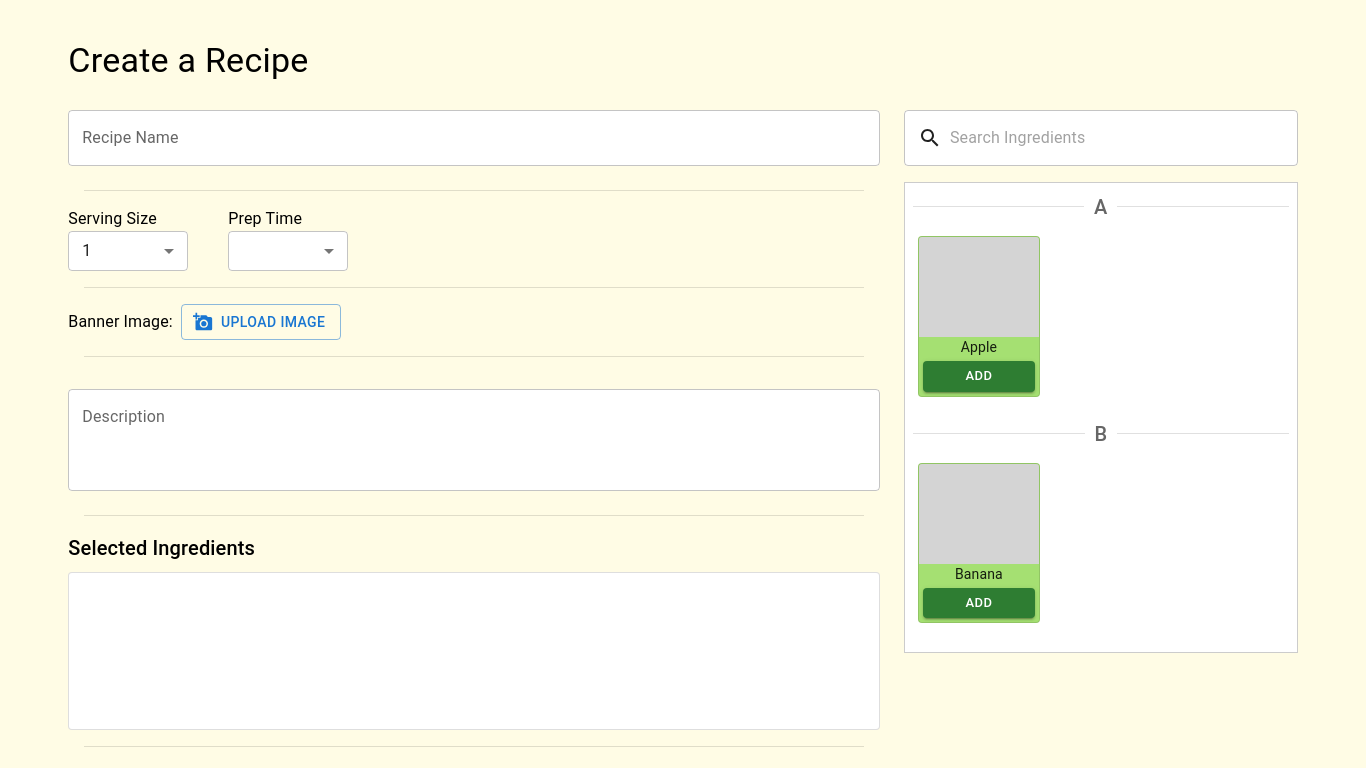
Scenario: CreateRecipe Component › can search for ingredients
Type "app" into the field with test id "ingredient-search-input-field" at (1124,138), box [950,110,1298,166]
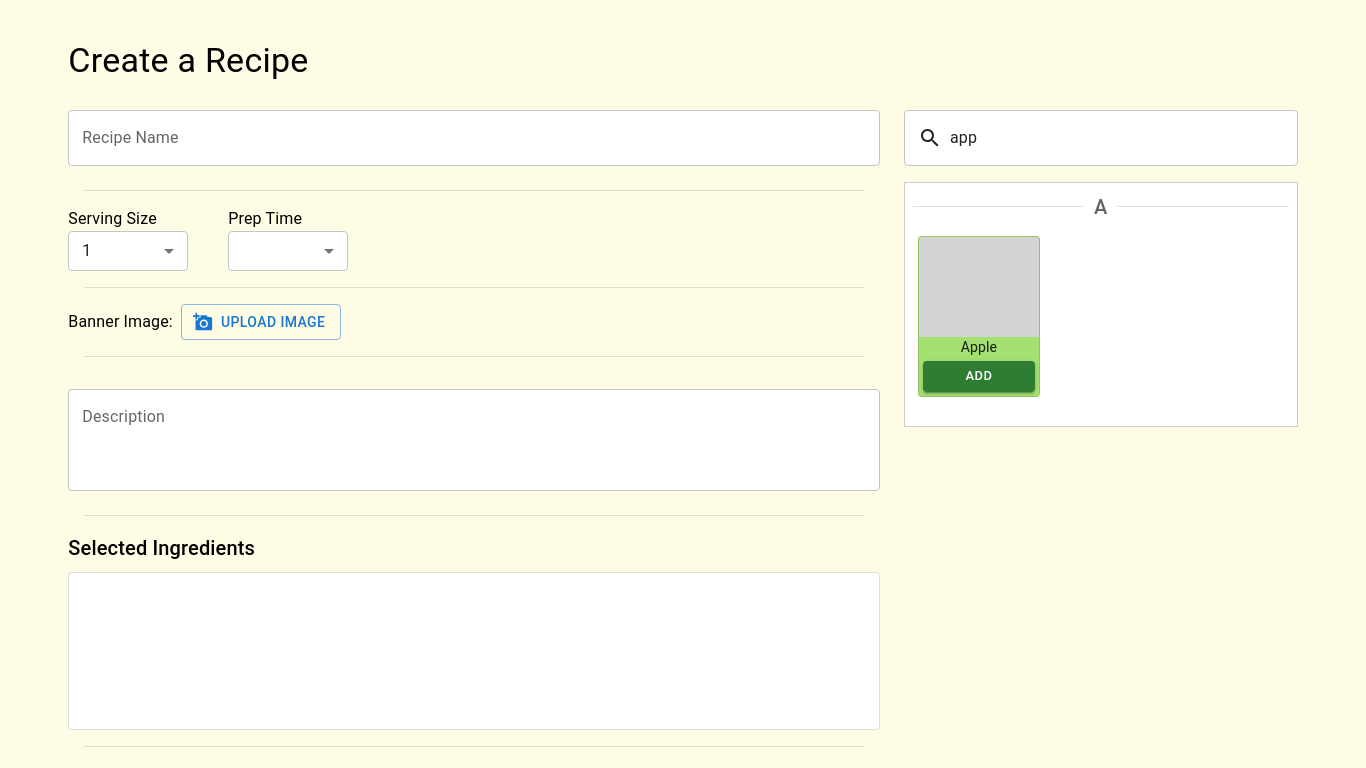
Check: the text "Apple" is shown, box [961,339,997,355]
Check: the text "Banana" is gone
